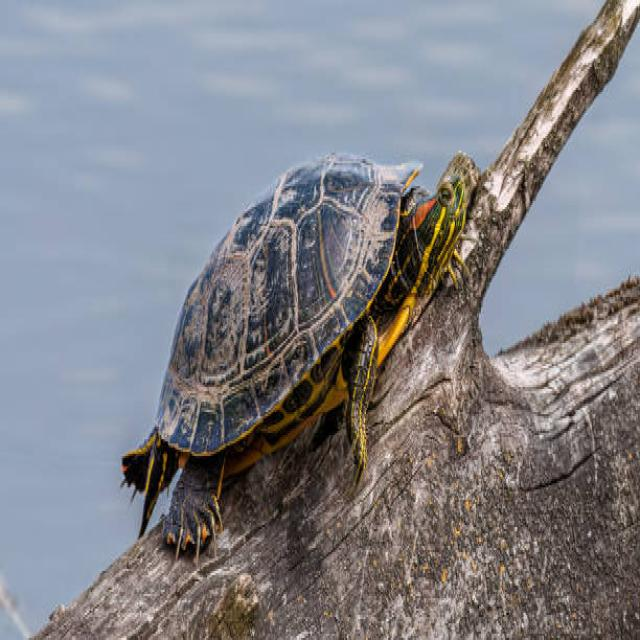terrapin: (151, 144, 407, 426), (411, 137, 478, 310), (341, 301, 387, 498), (164, 448, 228, 578), (112, 417, 168, 549)
